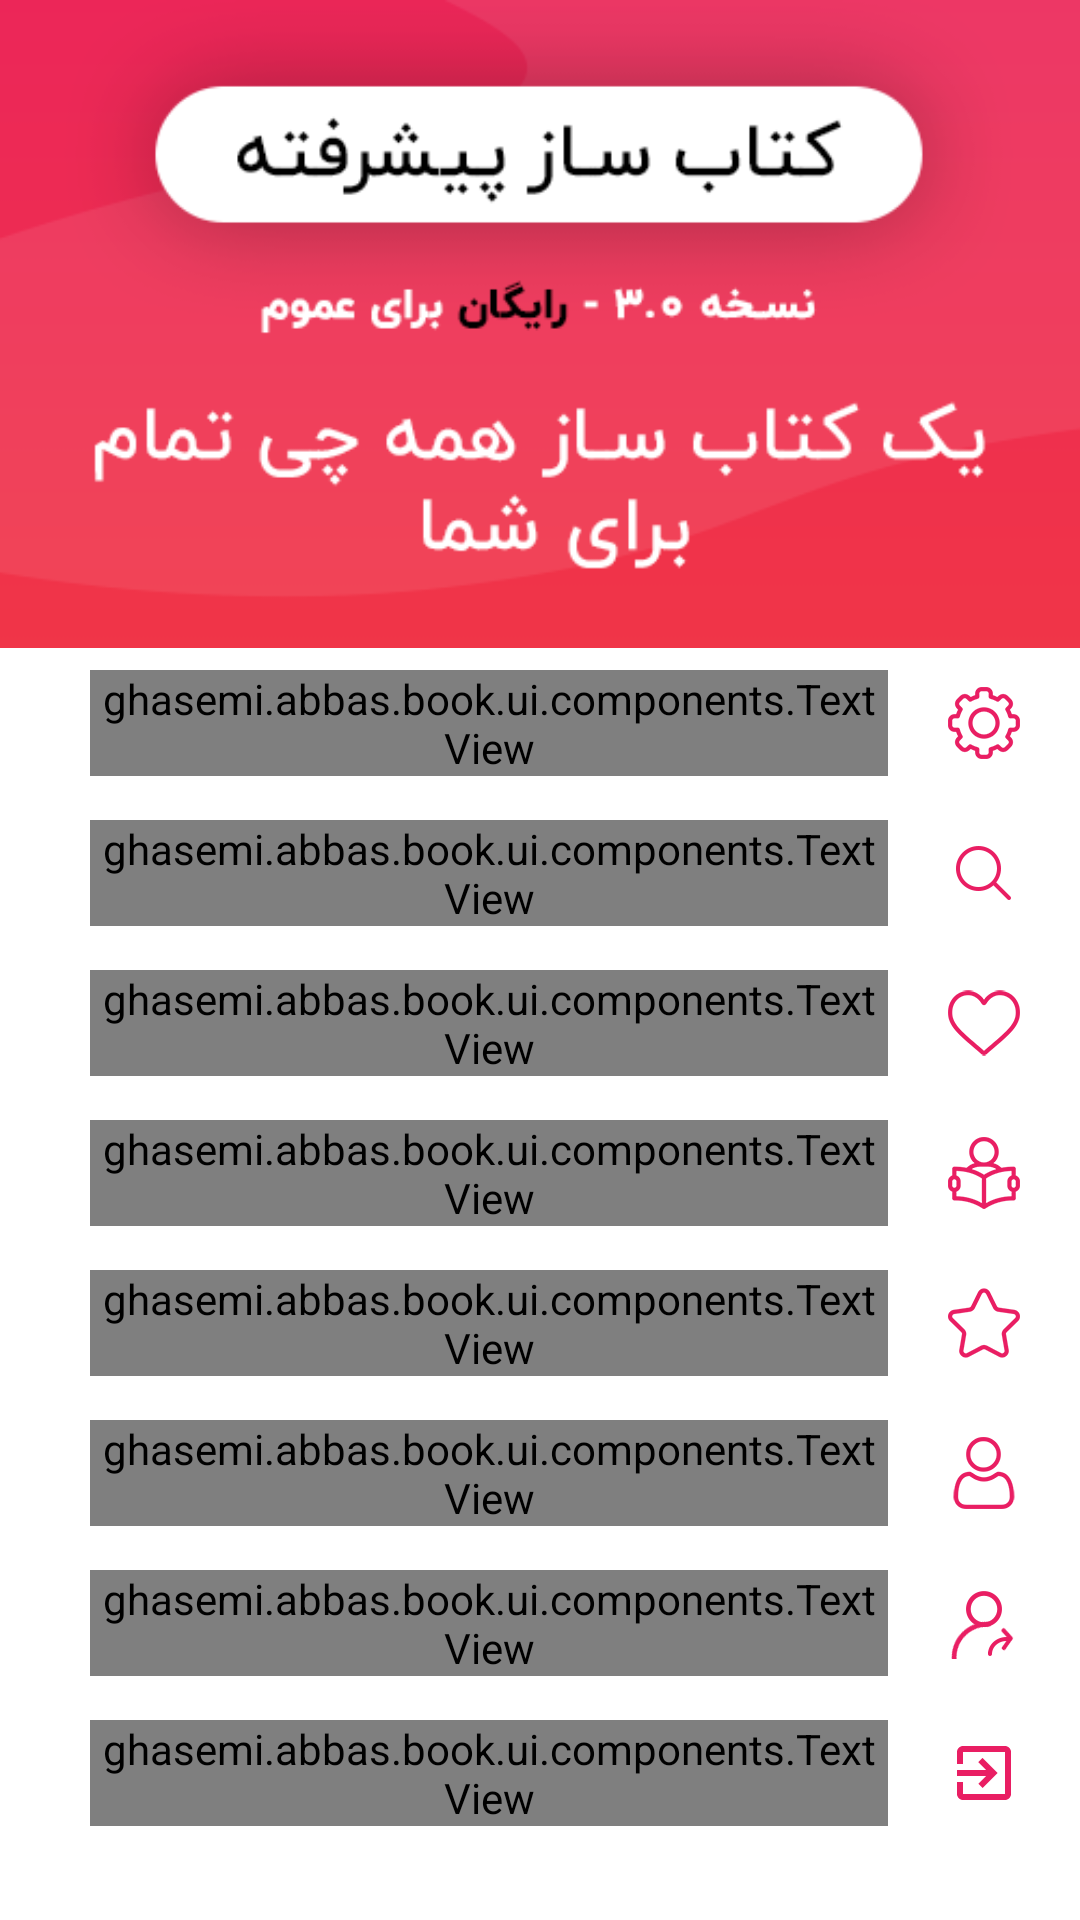

Icon click points for this 1080*1920 phone screenshot, format point (x, y):
exit to app: point (984, 1773)
favorite: point (984, 1023)
refer: point (982, 1625)
search: point (983, 873)
setting: point (984, 723)
star: point (984, 1323)
study: point (984, 1173)
user: point (984, 1473)
